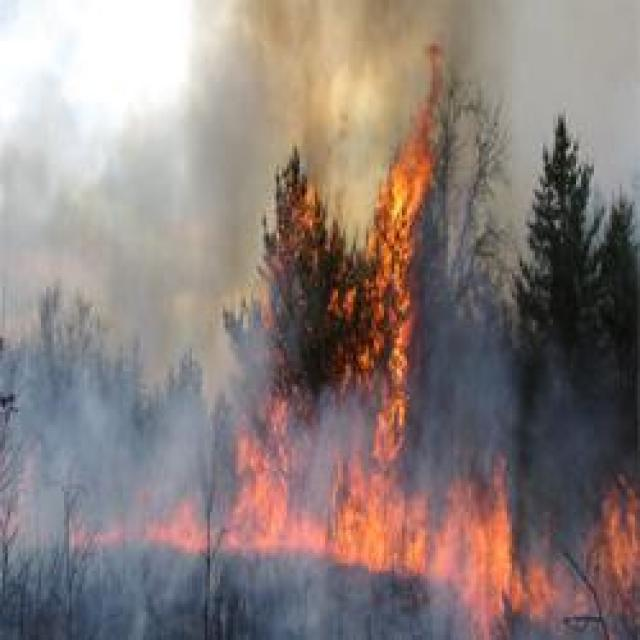fire: (238, 424, 640, 640), (251, 42, 427, 424), (82, 504, 231, 561)
